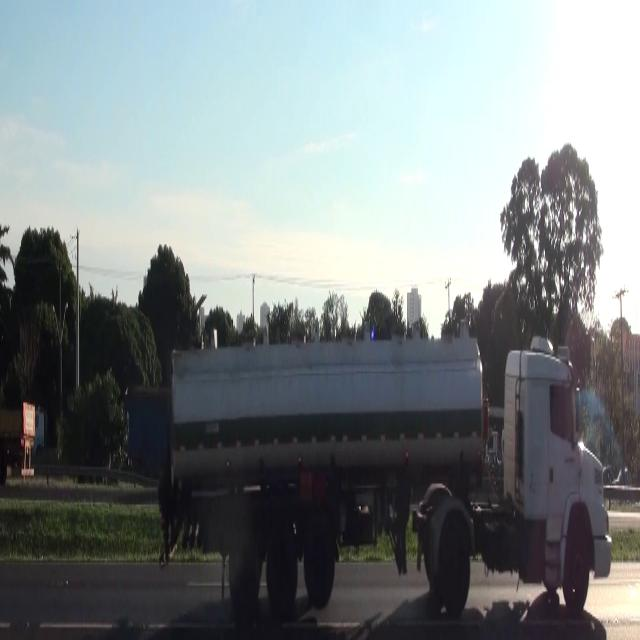-axle: (438, 515, 472, 612), (264, 519, 298, 610), (229, 522, 259, 608), (308, 516, 335, 606), (564, 528, 591, 612)
